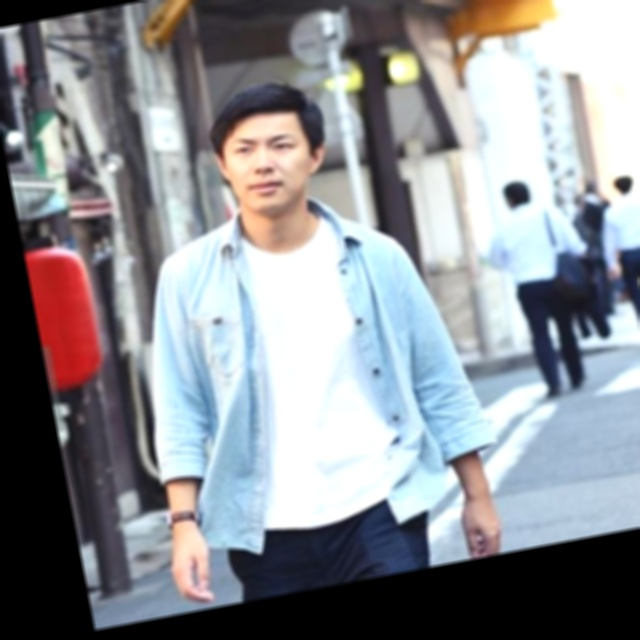Sin_Casco_Mascarrilla: (201, 72, 340, 222)
Sin_Chaleco: (147, 192, 450, 516)
